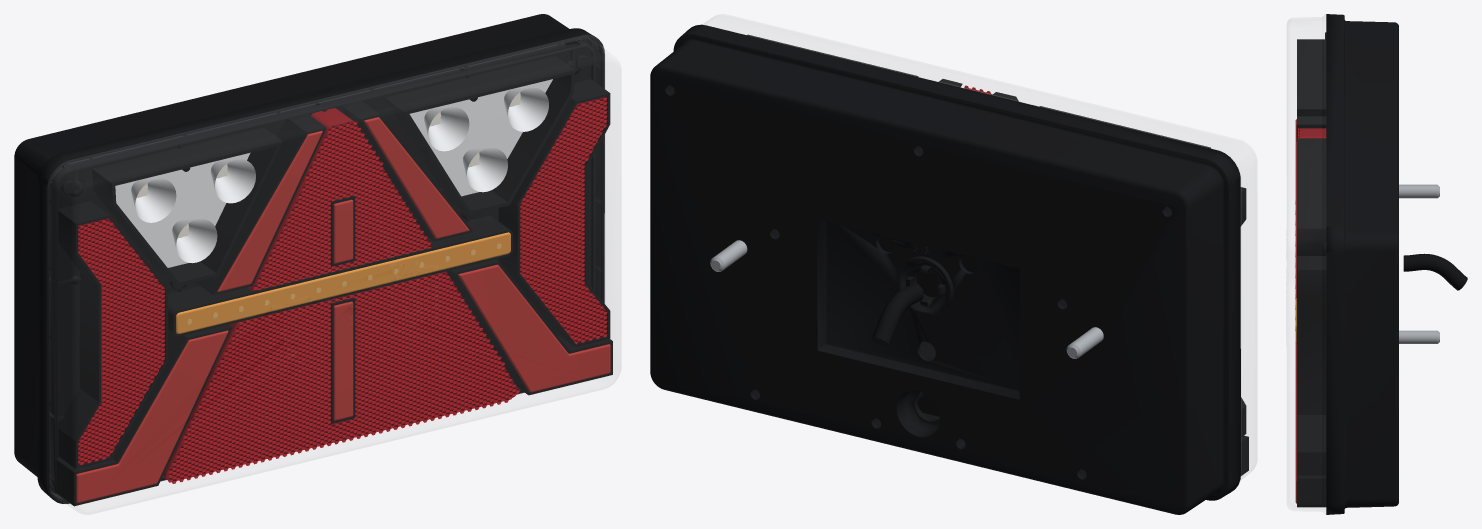
Rendered from lamp-lzd2820.glb.
3 views of the same model, side by side, from view 1: azimuth 30°, elevation 25°; view 2: azimuth 150°, elevation 25°; view 3: azimuth 270°, elevation 25° (orthographic). The views are drawn at different scales.
Visible parts, largest first — view 1: INNER, BODY, EMIT.position, EMIT.reverse, LENS, EMIT.stop, EMIT.fog, EMIT.turn; view 2: BODY, LENS, INNER; view 3: BODY, INNER, LENS, EMIT.position.
Boxes of the visible parts, box(x1,y1,x2,y2) form: INNER: box(54, 44, 612, 506); BODY: box(14, 14, 604, 503); EMIT.position: box(76, 117, 610, 502); EMIT.reverse: box(115, 79, 552, 267); LENS: box(50, 38, 620, 514); EMIT.stop: box(520, 96, 607, 344); EMIT.fog: box(78, 219, 165, 465); EMIT.turn: box(176, 232, 510, 333); BODY: box(650, 24, 1240, 514); LENS: box(702, 14, 1256, 480); INNER: box(747, 34, 1248, 476); BODY: box(1326, 14, 1467, 514); INNER: box(1297, 32, 1326, 507); LENS: box(1286, 14, 1325, 514); EMIT.position: box(1295, 119, 1296, 503).
Bounding box in the file's own units: 0.238 × 0.14 × 0.0798.
